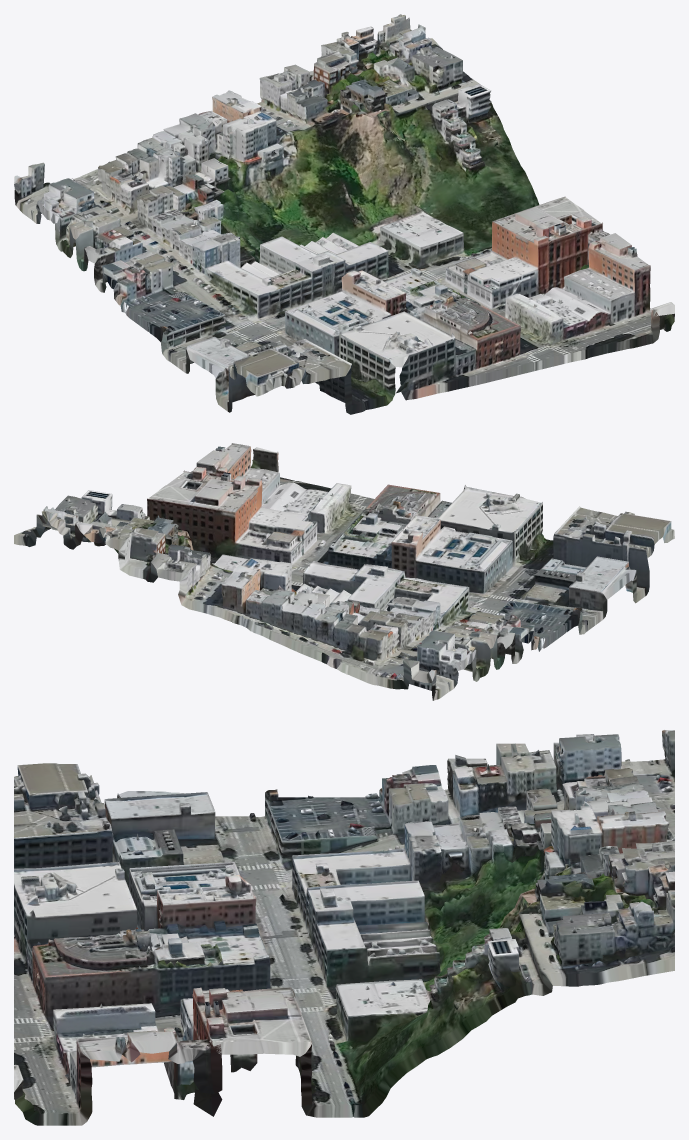
Rendered from z17-20970-50650-h0-yup-uvflip-v3-world.glb.
3 renders of one model, top to bottom at view 1: azimuth 30°, elevation 25°; view 2: azimuth 150°, elevation 25°; view 3: azimuth 270°, elevation 25°, orthographic. The views are drawn at different scales.
Bounding box in the file's own units: 242 × 85.12 × 243.
Materials: 1 (1 with a texture image).
